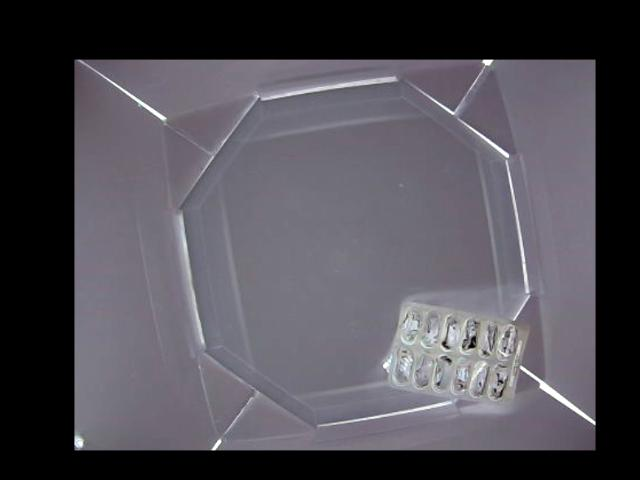Medicine: (383, 301, 528, 406)
